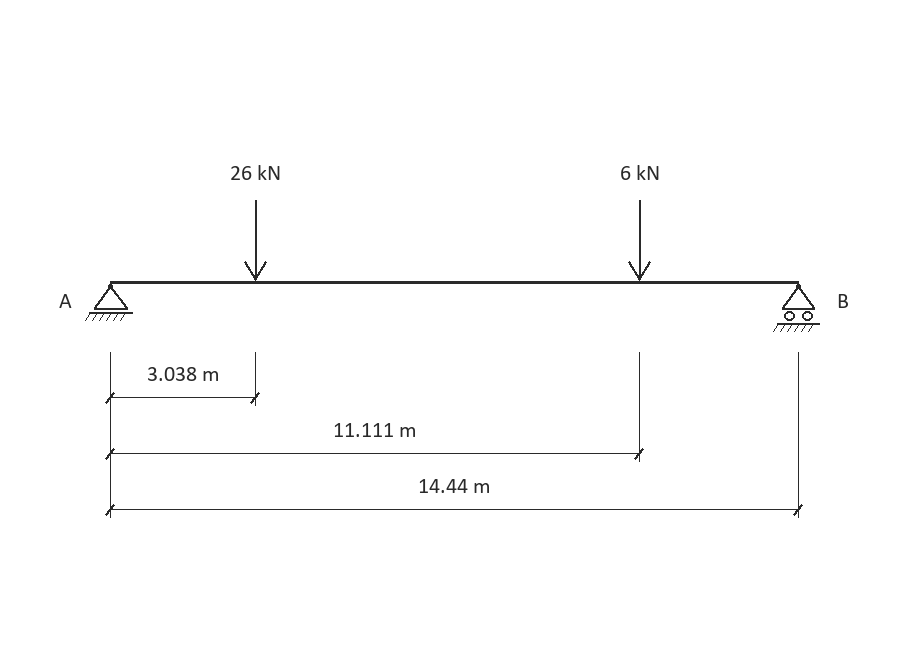pin_support: (85, 284, 133, 321)
point_load: (244, 200, 267, 281), (628, 200, 651, 281)
roller_support: (773, 284, 820, 332)
